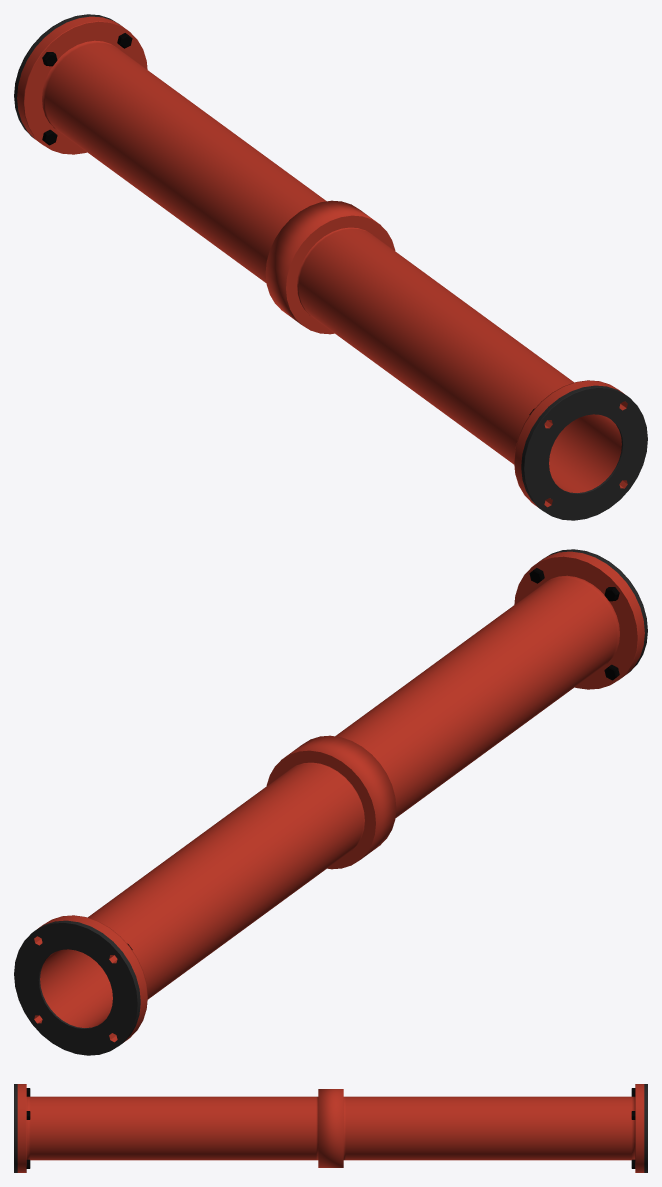
Rendered from StraightPipeVar.fbx.
3 views of the same model, one above another, from view 1: azimuth 30°, elevation 25°; view 2: azimuth 150°, elevation 25°; view 3: azimuth 270°, elevation 25° (orthographic). The views are drawn at different scales.
Parts seen in each view (by area): view 1: Straight_Pipe_Joint; view 2: Straight_Pipe_Joint; view 3: Straight_Pipe_Joint.
Part boxes in pixels (x1,y1,x2,y2): Straight_Pipe_Joint: [14, 14, 647, 520]; Straight_Pipe_Joint: [14, 549, 647, 1055]; Straight_Pipe_Joint: [14, 1084, 647, 1172].
Bounding box in the file's own units: 14 × 14 × 100.
